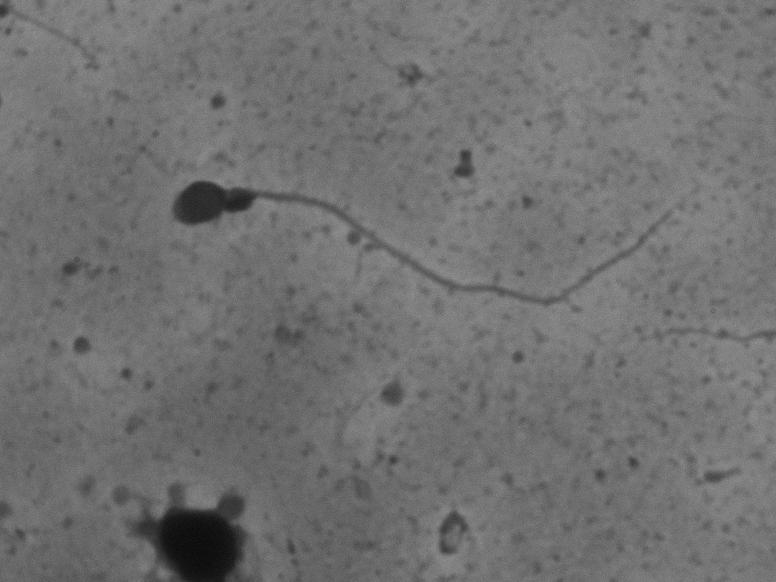Abnormal: (134, 126, 697, 349)
